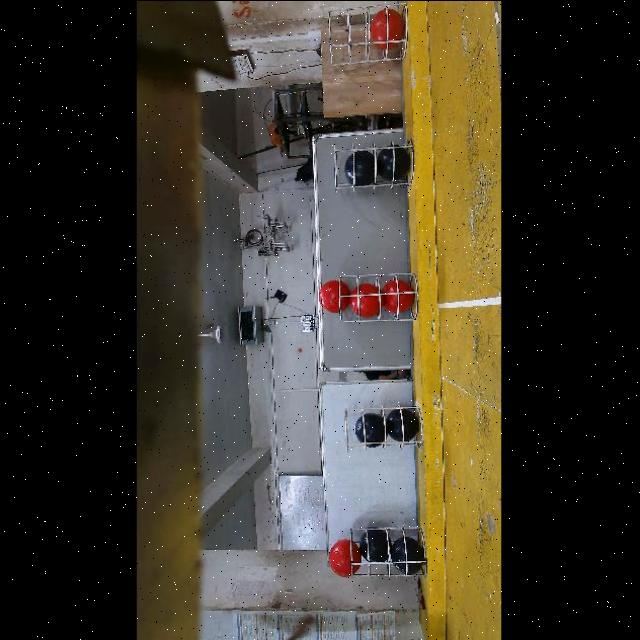P: (390, 536, 425, 574), (377, 141, 410, 180), (386, 408, 419, 441), (344, 150, 375, 185), (354, 412, 385, 446), (358, 528, 389, 561)
R: (371, 7, 404, 50), (329, 538, 362, 576), (382, 279, 414, 312), (349, 283, 380, 317), (319, 279, 349, 312)
S: (328, 0, 408, 68), (336, 272, 424, 330), (342, 399, 428, 457), (343, 526, 427, 580), (330, 142, 416, 194)
